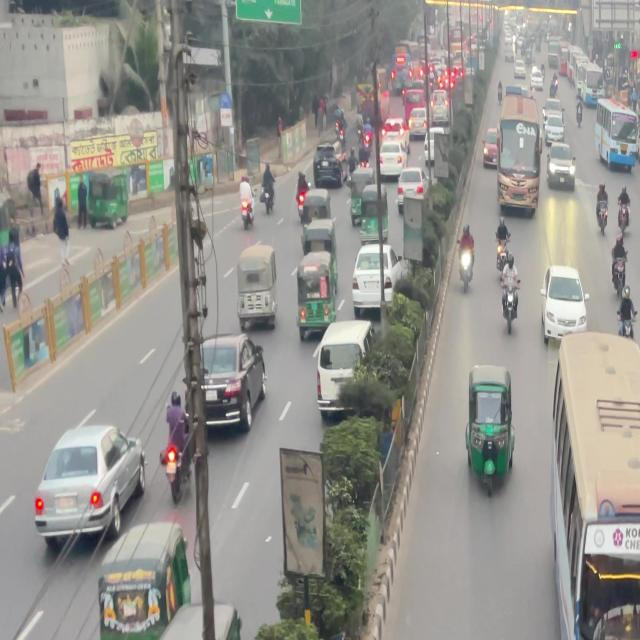bus: (553, 336, 640, 640), (495, 108, 548, 210), (599, 98, 640, 169)
car: (28, 421, 146, 544), (198, 329, 268, 433), (315, 316, 379, 403), (541, 264, 587, 330), (546, 148, 574, 190)
rickshaw: (97, 525, 194, 640), (467, 364, 515, 490), (140, 604, 251, 640), (237, 243, 278, 334)
